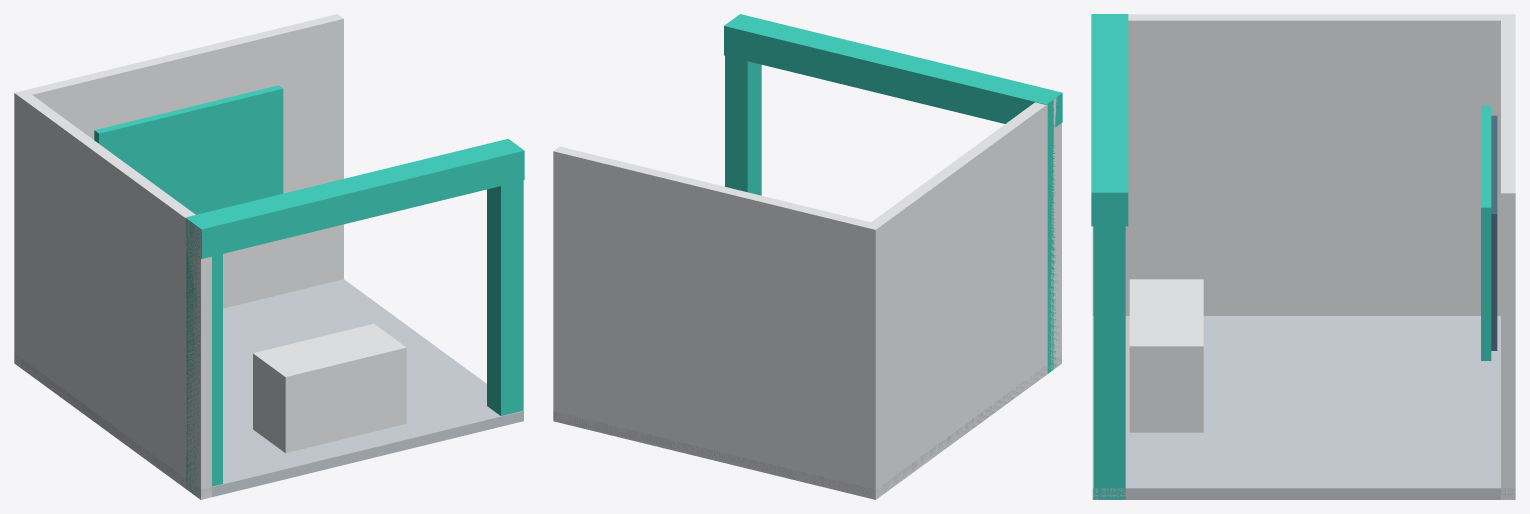
The picture shows the model from 3 angles, left to right: view 1: azimuth 30°, elevation 25°; view 2: azimuth 150°, elevation 25°; view 3: azimuth 270°, elevation 25°; orthographic projection. The views are drawn at different scales.
Visible parts, largest first — view 1: Exhibition Booth Concept; view 2: Exhibition Booth Concept; view 3: Exhibition Booth Concept.
Boxes of the visible parts, x1=… form: Exhibition Booth Concept: x1=14, y1=14, x2=524, y2=499; Exhibition Booth Concept: x1=553, y1=14, x2=1062, y2=499; Exhibition Booth Concept: x1=1091, y1=14, x2=1515, y2=499.
Size of the model in its own units: 4 by 3.2 by 4.02.
